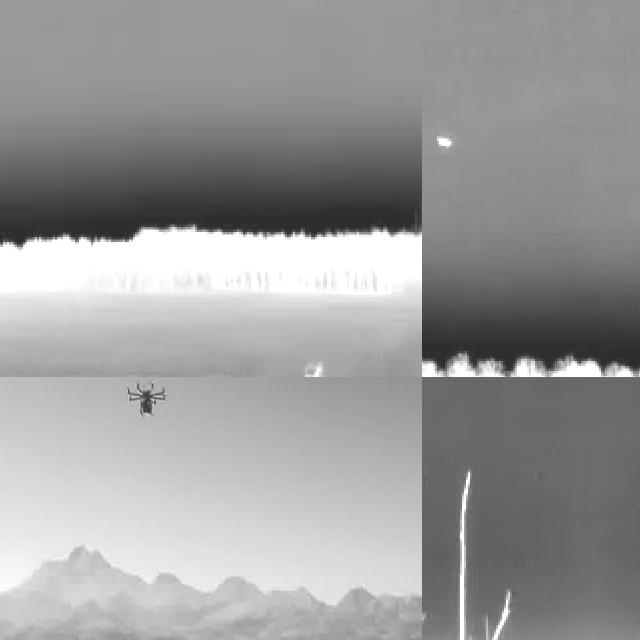0: (518, 458, 546, 490)
1: (426, 130, 462, 160)
drone: (123, 377, 168, 422)
